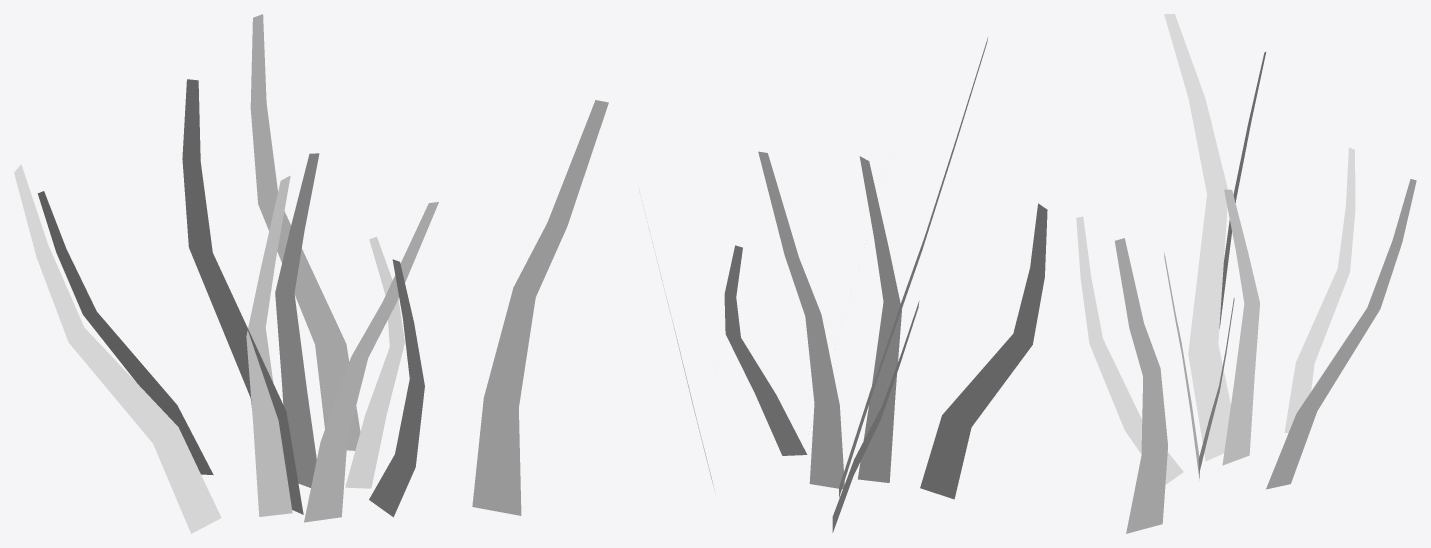
Rendered from Grass_03.fbx.
3 renders of one model, left to right at view 1: azimuth 30°, elevation 25°; view 2: azimuth 150°, elevation 25°; view 3: azimuth 270°, elevation 25°, orthographic. The views are drawn at different scales.
Visible parts, largest first — view 1: Grass_03; view 2: Grass_03; view 3: Grass_03.
Boxes of the visible parts, box(x1,y1,x2,y2) form: Grass_03: box(14, 14, 608, 533); Grass_03: box(639, 38, 1047, 532); Grass_03: box(1076, 14, 1416, 533).
Bounding box in the file's own units: 0.0854 × 0.08 × 0.0614.
Materials: 1 (1 with a texture image).
